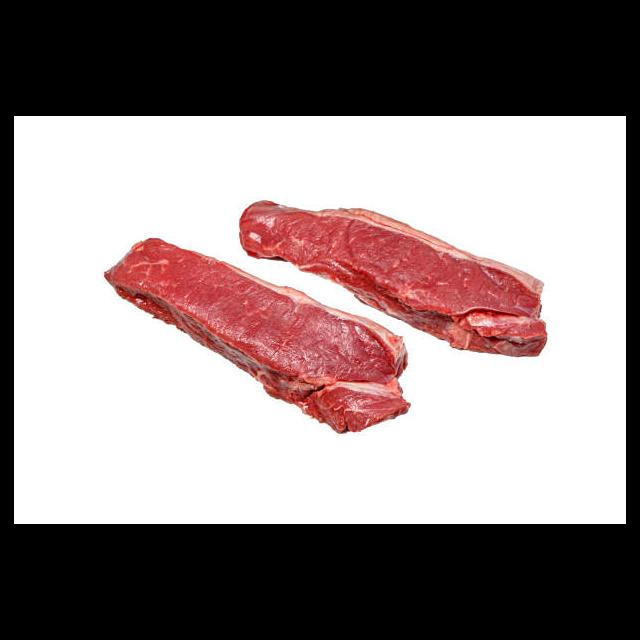beef: (104, 235, 412, 434), (239, 199, 549, 358)
